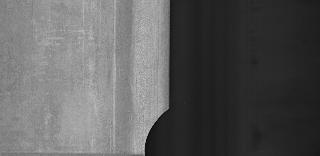welding line: (2, 148, 158, 156)
